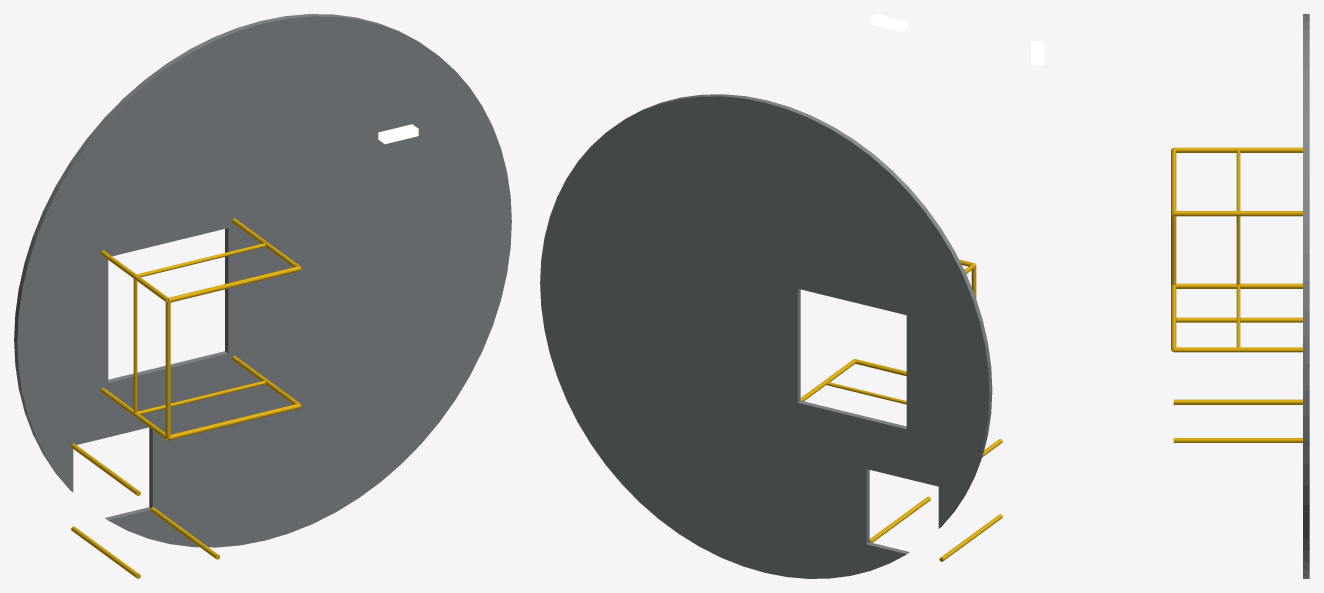
The model's file is platform_3.glb.
3 views of the same model, side by side, from view 1: azimuth 30°, elevation 25°; view 2: azimuth 150°, elevation 25°; view 3: azimuth 270°, elevation 25° (orthographic). The views are drawn at different scales.
Parts seen in each view (by area): view 1: platform_3; view 2: platform_3; view 3: platform_3.
Boxes of the visible parts, x1,y1,x2,y2 form: platform_3: (14, 14, 511, 578); platform_3: (540, 14, 1002, 578); platform_3: (1031, 14, 1309, 578).
Bounding box in the file's own units: 4.37 × 4.37 × 2.15.
